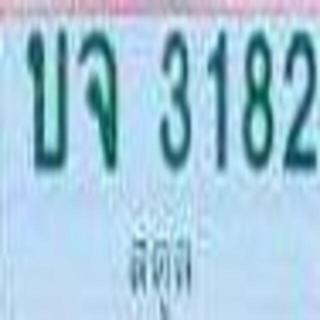A08: (73, 26, 127, 175)
A26: (23, 26, 73, 170)
N01: (199, 22, 230, 169)
N02: (277, 21, 320, 178)
N03: (152, 26, 196, 174)
N08: (235, 24, 278, 176)
P61: (114, 220, 200, 320)
